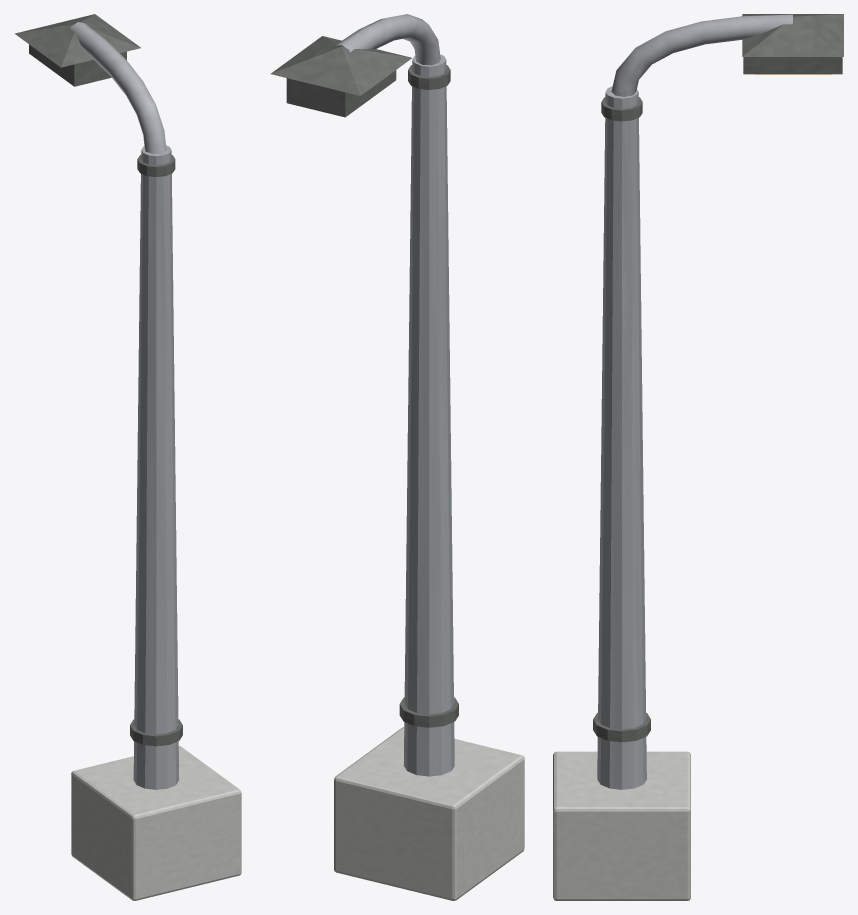
The model's file is lamp.glb.
3 views of the same model, side by side, from view 1: azimuth 30°, elevation 25°; view 2: azimuth 150°, elevation 25°; view 3: azimuth 270°, elevation 25° (orthographic). The views are drawn at different scales.
Visible parts, largest first — view 1: Cone, Cube, Arm, Cone.001, Cube.001, Cylinder, Cylinder.001; view 2: Cone, Cube, Cone.001, Arm, Cube.001, Cylinder, Cylinder.001; view 3: Cone, Cube, Arm, Cone.001, Cube.001, Cylinder, Cylinder.001.
Boxes of the visible parts, x1=… form: Cone: x1=133, y1=145, x2=179, y2=789; Cube: x1=71, y1=746, x2=241, y2=900; Arm: x1=70, y1=22, x2=166, y2=153; Cone.001: x1=15, y1=14, x2=140, y2=67; Cube.001: x1=29, y1=44, x2=126, y2=86; Cylinder: x1=130, y1=719, x2=182, y2=746; Cylinder.001: x1=137, y1=155, x2=175, y2=177; Cone: x1=403, y1=54, x2=454, y2=776; Cube: x1=334, y1=727, x2=524, y2=900; Cone.001: x1=271, y1=36, x2=411, y2=95; Arm: x1=333, y1=14, x2=440, y2=65; Cube.001: x1=286, y1=70, x2=396, y2=117; Cylinder: x1=399, y1=697, x2=458, y2=727; Cylinder.001: x1=408, y1=65, x2=450, y2=89; Cone: x1=597, y1=86, x2=646, y2=789; Cube: x1=553, y1=751, x2=690, y2=900; Arm: x1=611, y1=14, x2=792, y2=96; Cone.001: x1=742, y1=14, x2=843, y2=56; Cube.001: x1=743, y1=57, x2=842, y2=74; Cylinder: x1=593, y1=712, x2=650, y2=742; Cylinder.001: x1=601, y1=97, x2=642, y2=121.
Size of the model in its own units: 0.8 by 5.49 by 1.69.
Materials: 4 (3 with a texture image).
